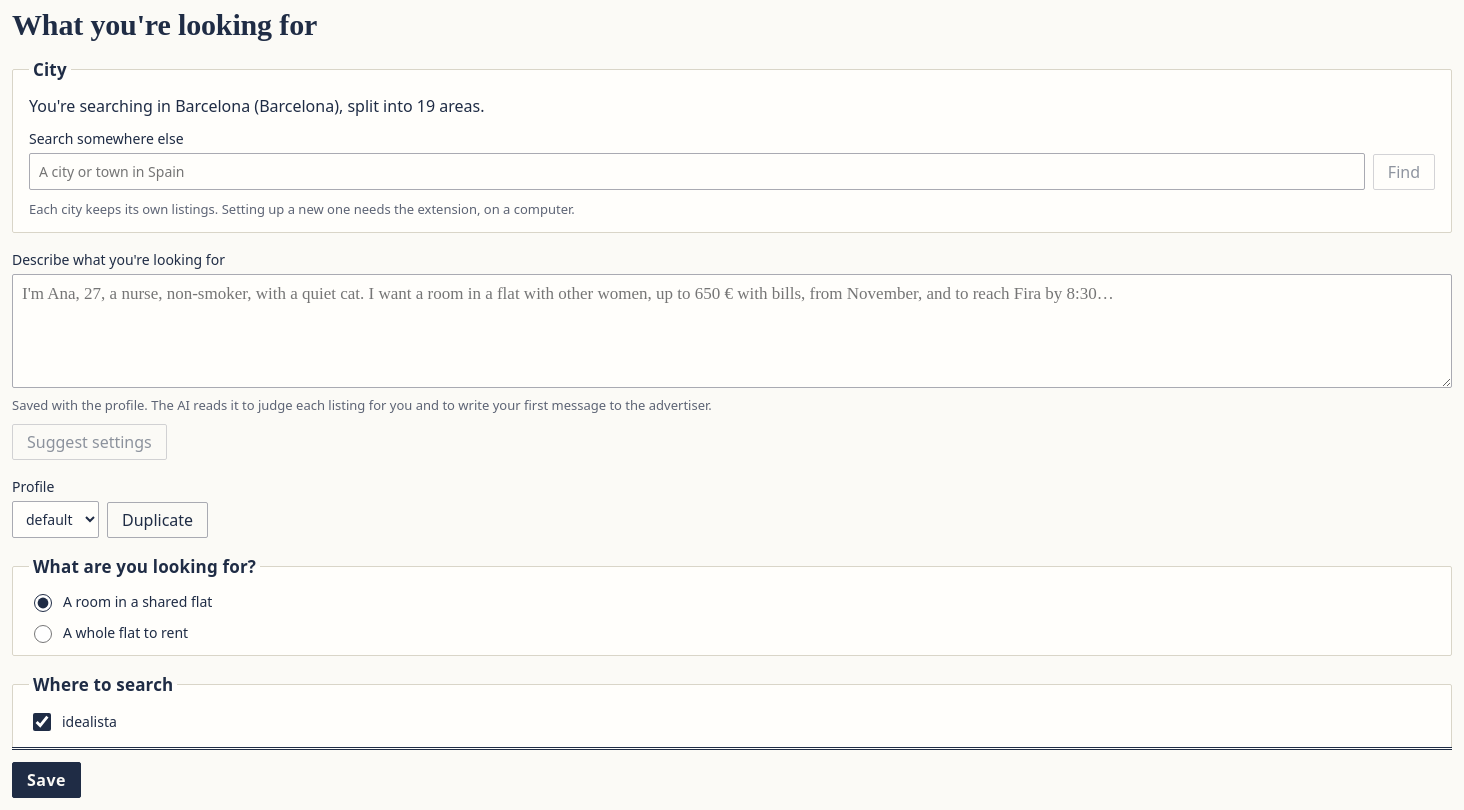
it: saves what the person wrote about themselves with the profile
Type "Quiet, with a cat" into the text box labelled "Describe what you're looking for". click: point(732, 331)
box: [12,274,1452,388]
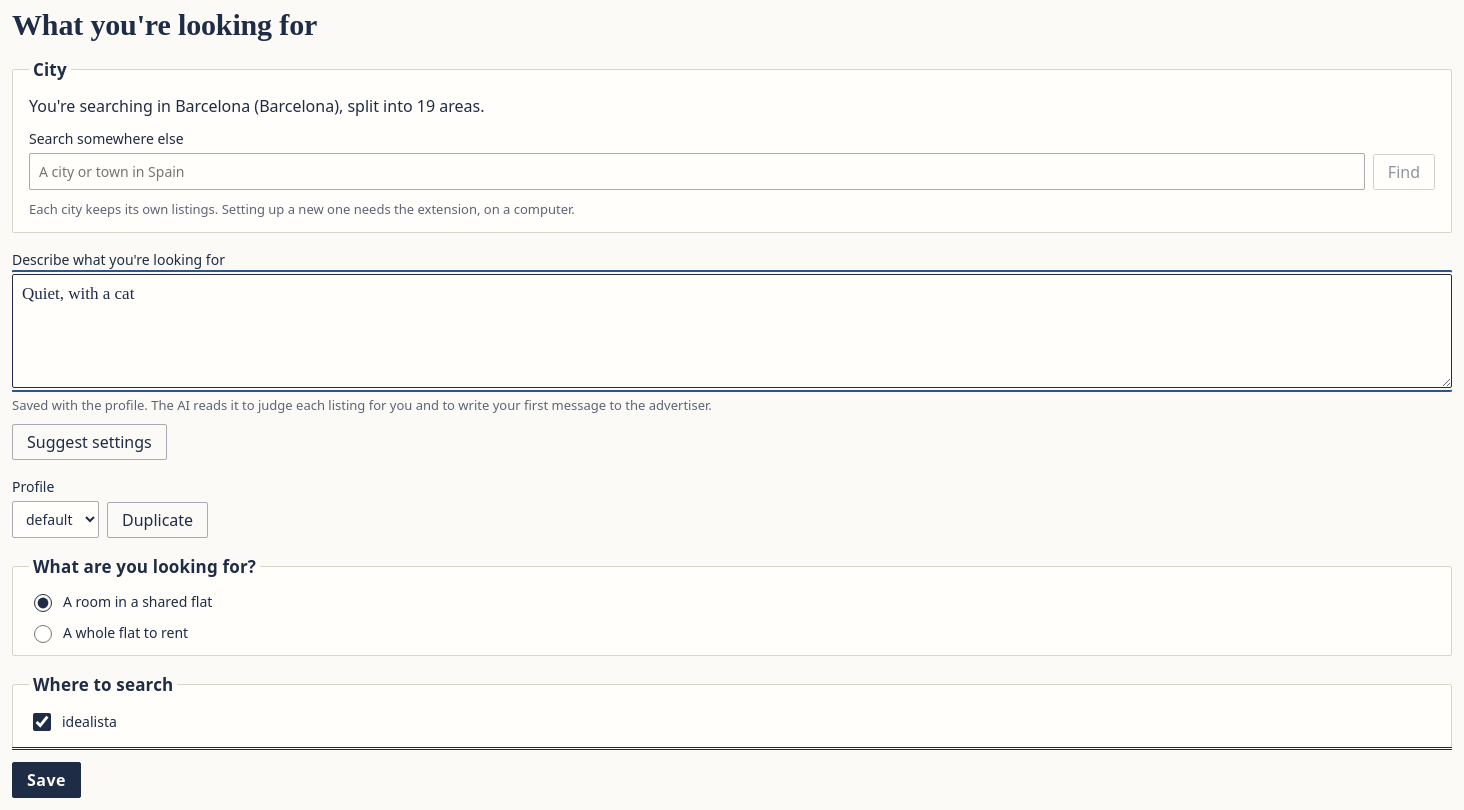
Click the button "Save". click: point(46, 780)
box: [12,762,81,798]
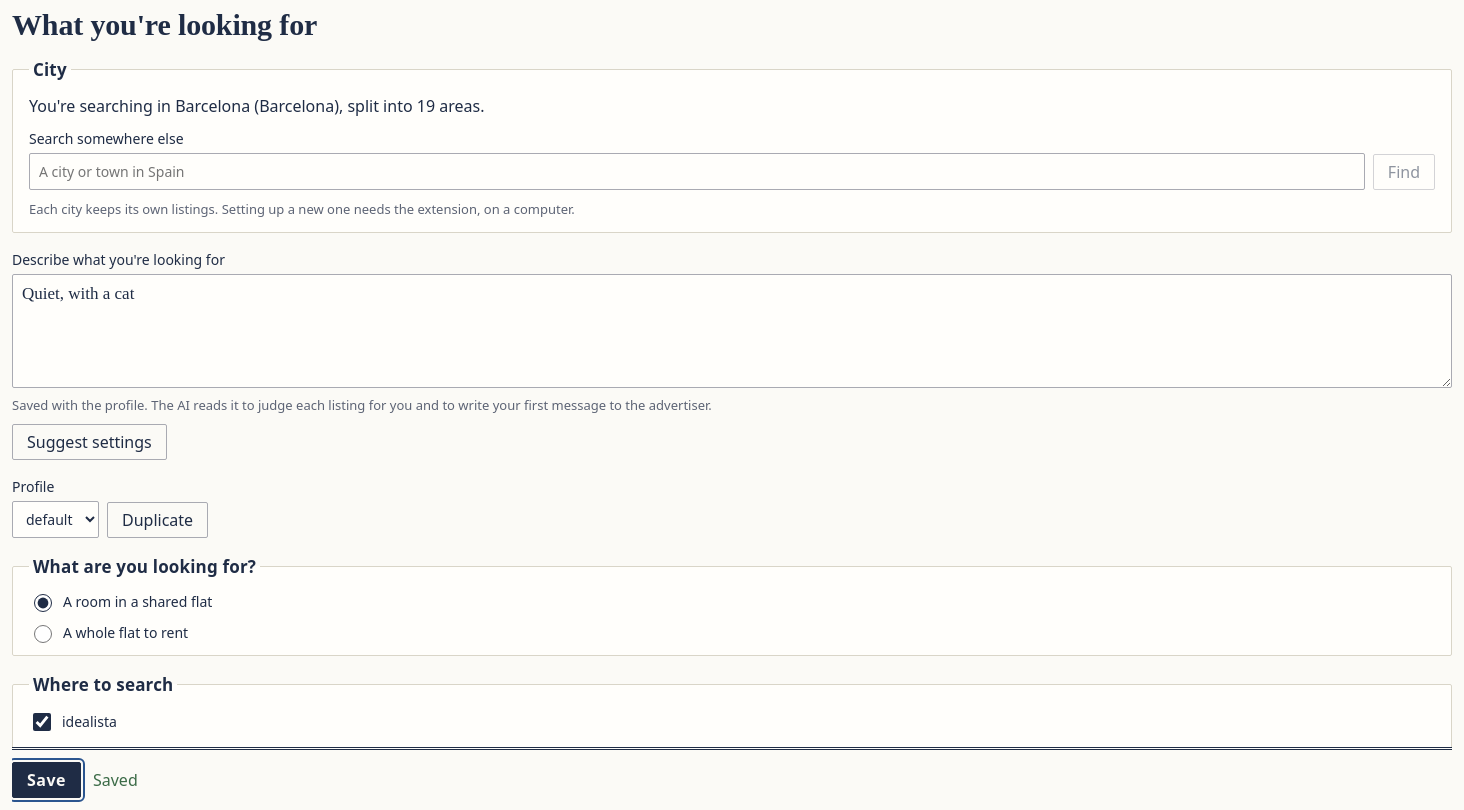
Result: the text "Saved" is shown at [93,768,138,792]
